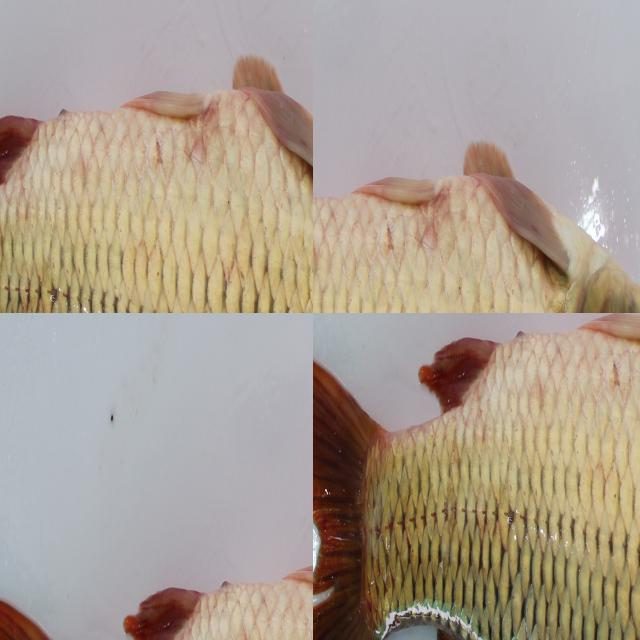fish: (313, 313, 640, 640), (0, 0, 313, 313), (55, 313, 162, 385)
